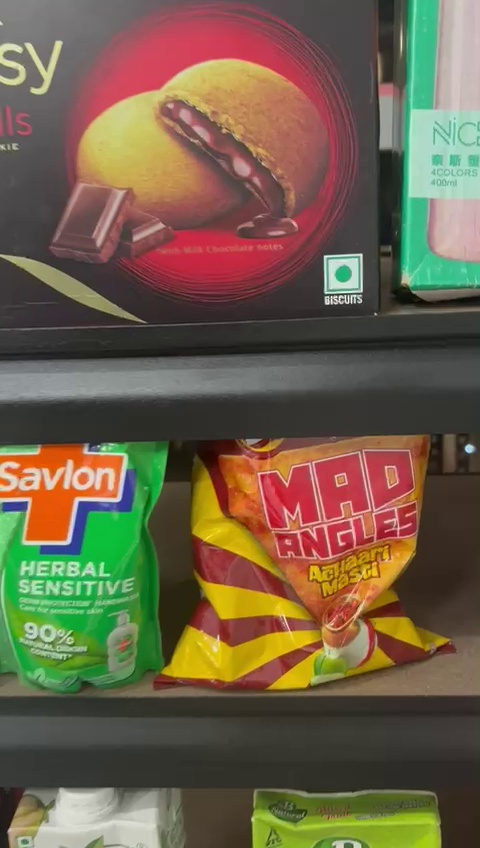Bingo Mad Angles: (189, 440, 433, 686)
